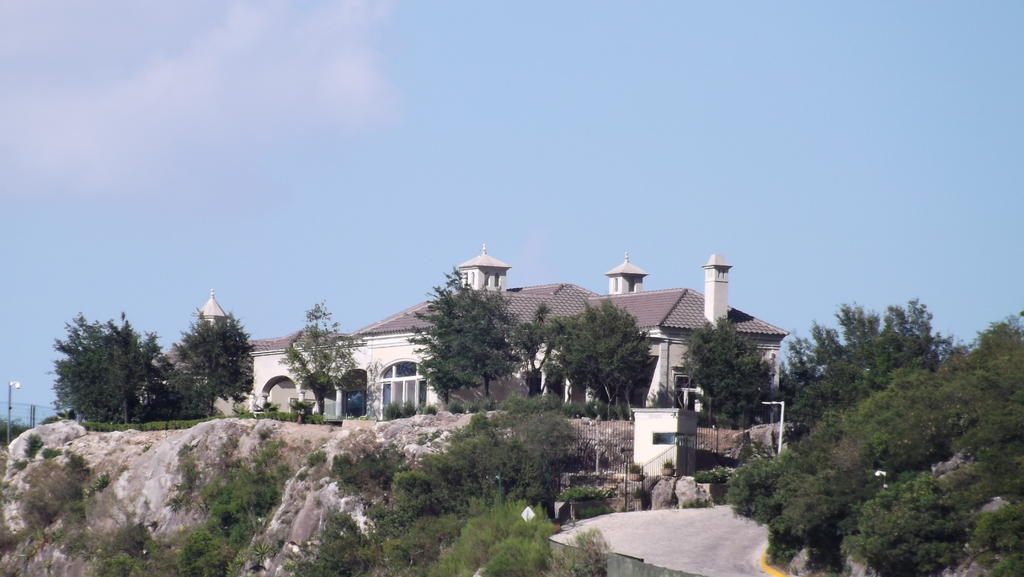Tree: (727, 305, 1023, 576), (287, 388, 605, 576), (89, 432, 294, 576), (779, 297, 971, 439), (401, 265, 517, 411), (525, 300, 657, 423), (44, 304, 164, 431), (677, 315, 773, 436), (160, 306, 257, 420), (280, 297, 360, 422), (0, 411, 32, 446)
